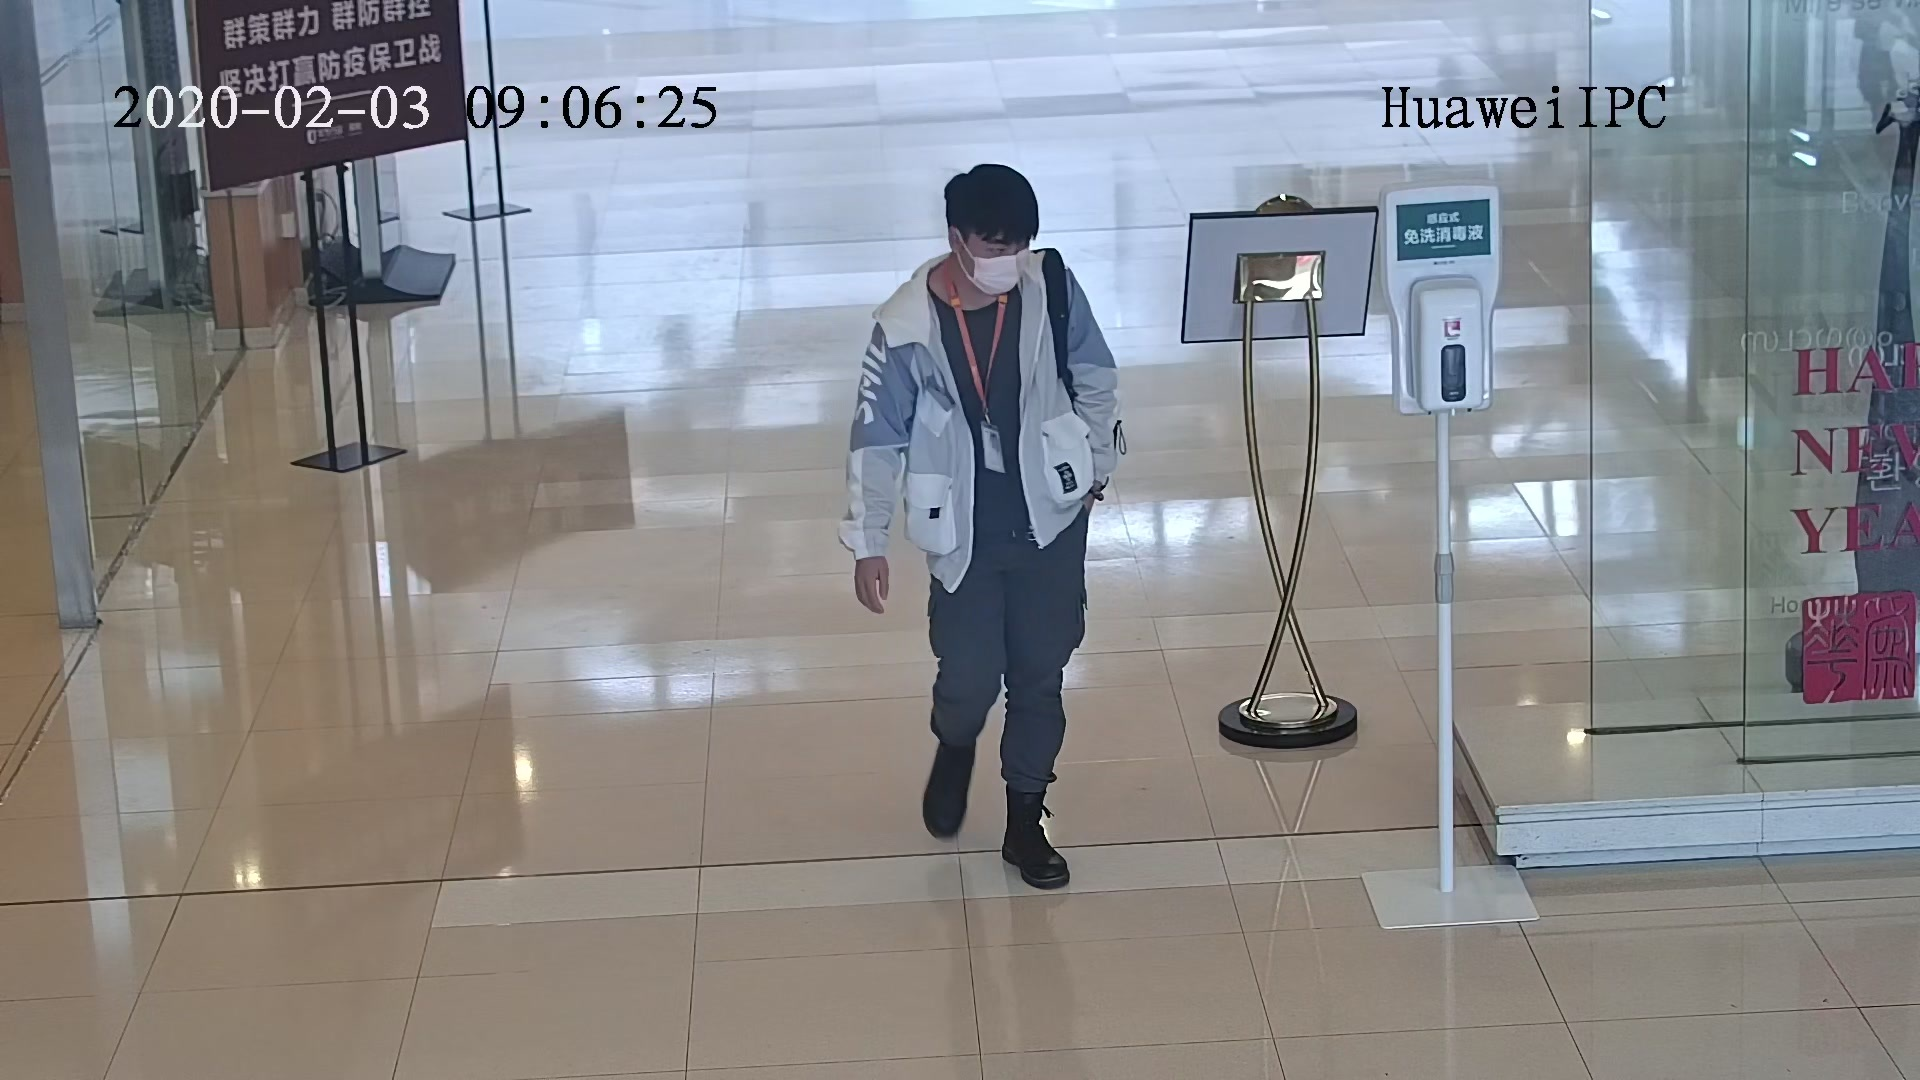face: (958, 207, 1032, 303)
mask: (966, 246, 1027, 298)
person: (865, 160, 1089, 357)
